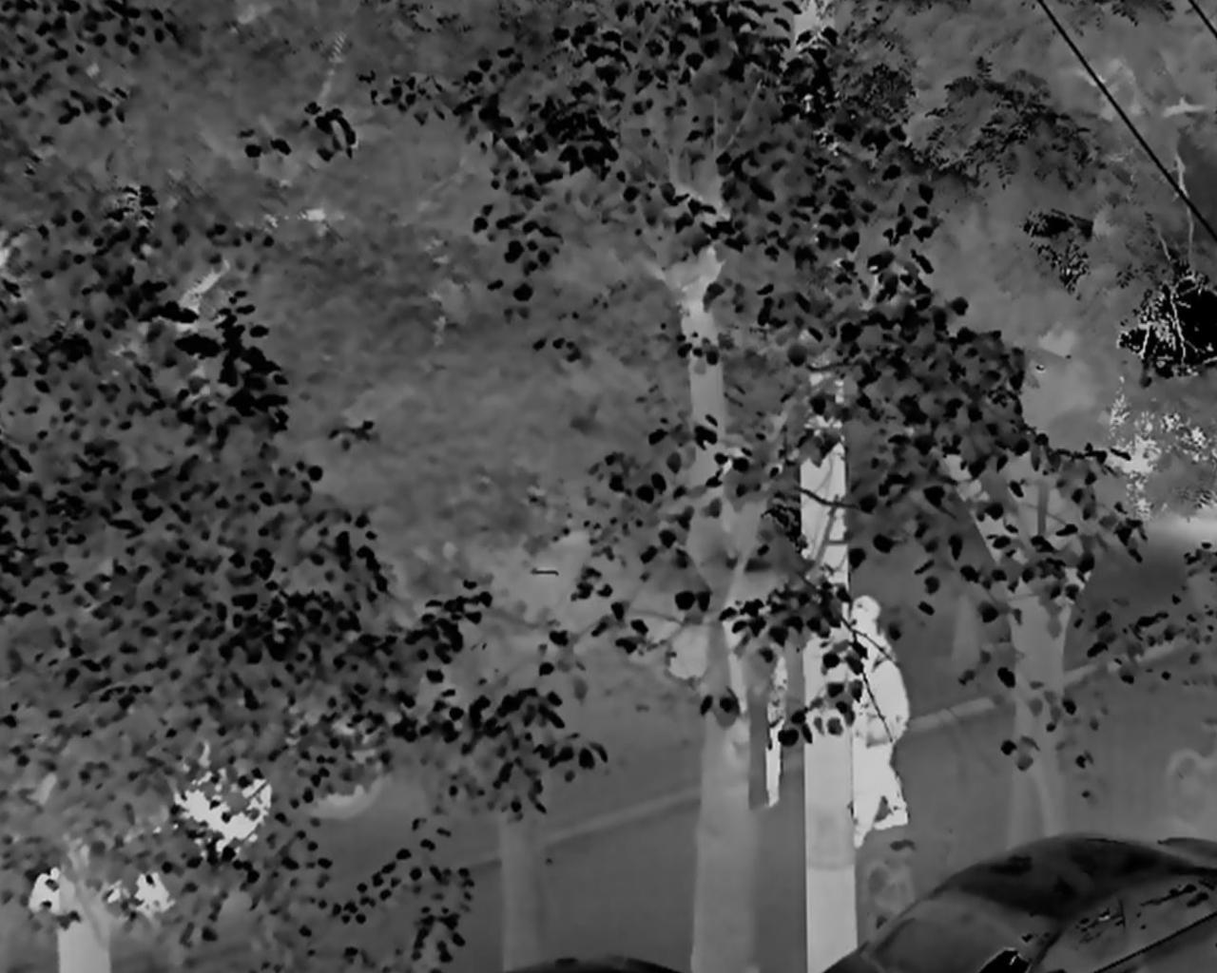person: (847, 592, 916, 850)
